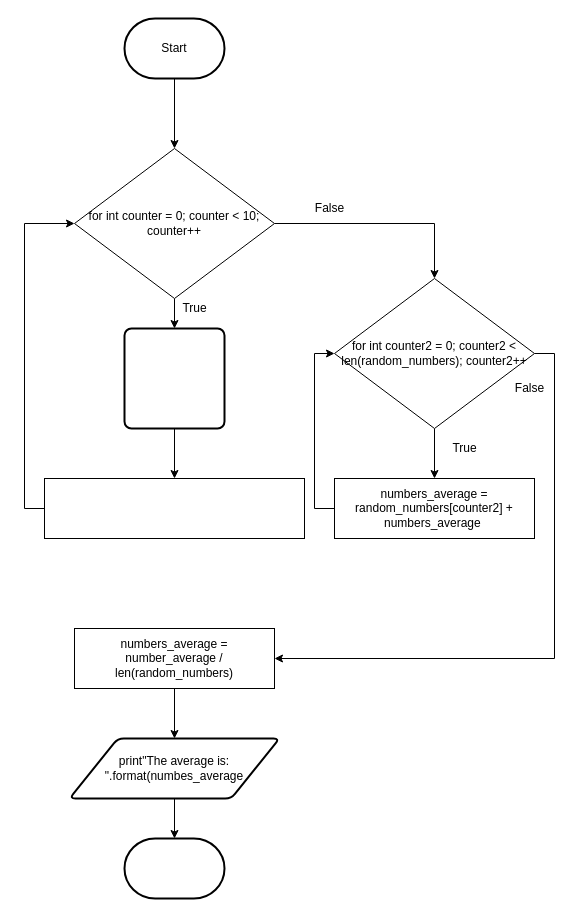
This 580x916 diagram has some shape labels left out. Each missing label, with the centre of its shape:
Generate random number: (x=174, y=378)
random_numbers.append(random_number): (x=174, y=508)
Stop: (x=174, y=868)
